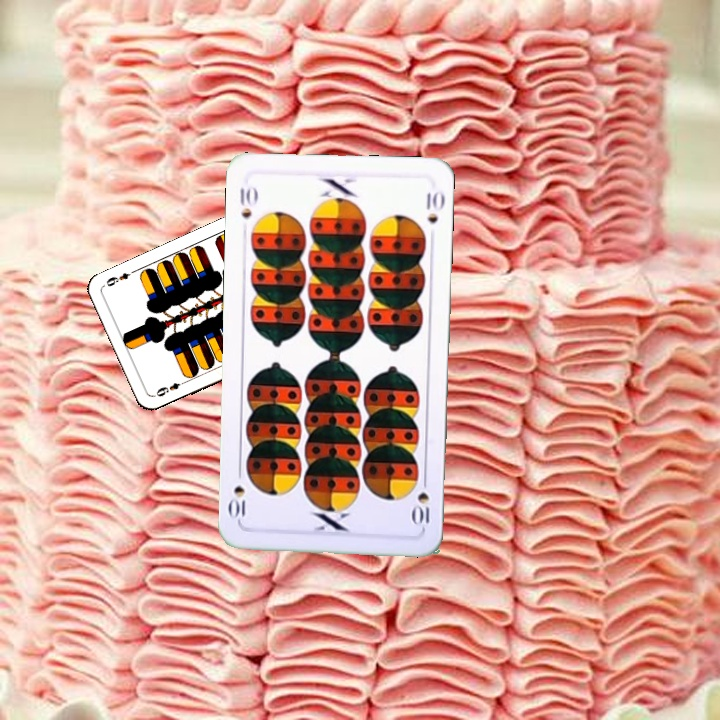E9: (151, 376, 189, 399)
S10: (410, 472, 432, 531), (235, 182, 259, 220)
